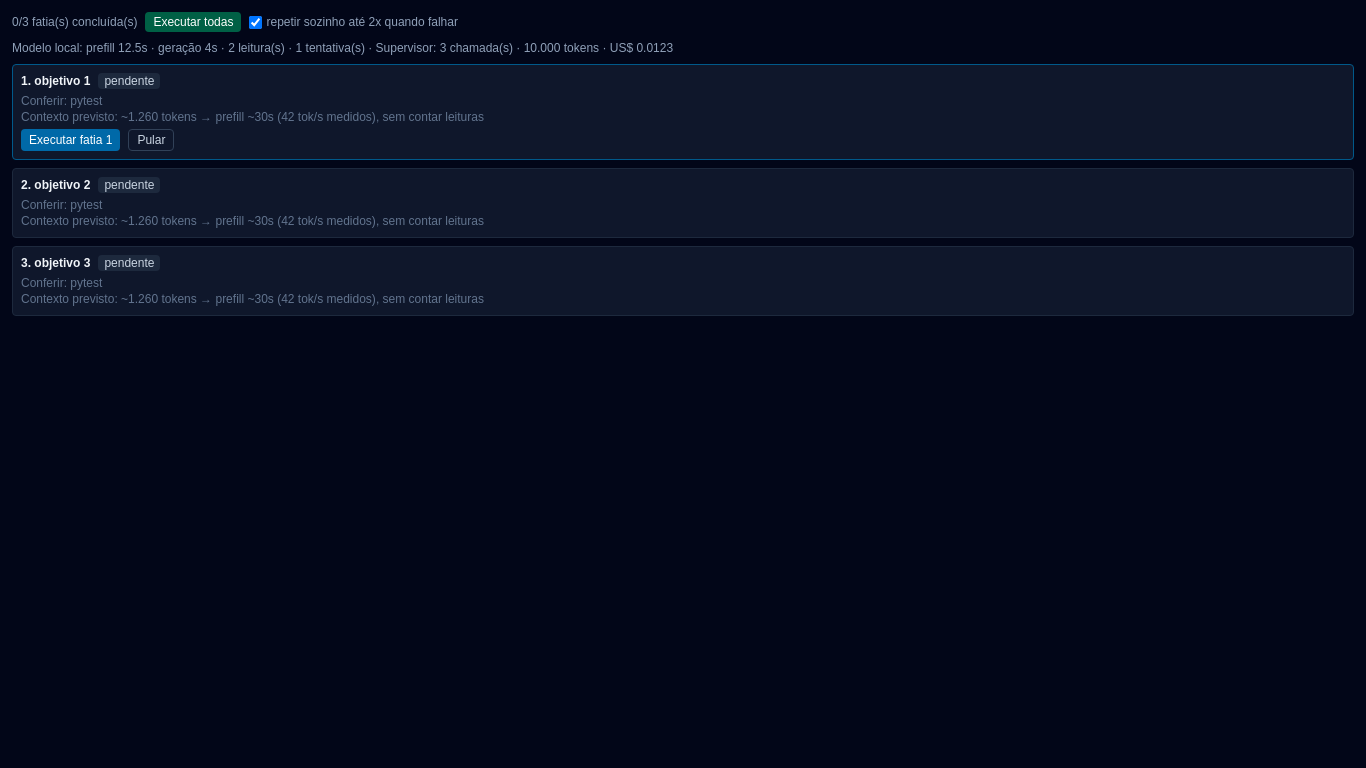
Test case: PainelExecucao › executar todas para na primeira falha, mostra o erro e repete com correção
This screenshot has width=1366, height=768.
Step 1. Click the button "Executar todas" → click(193, 22), box [145,12,241,32]
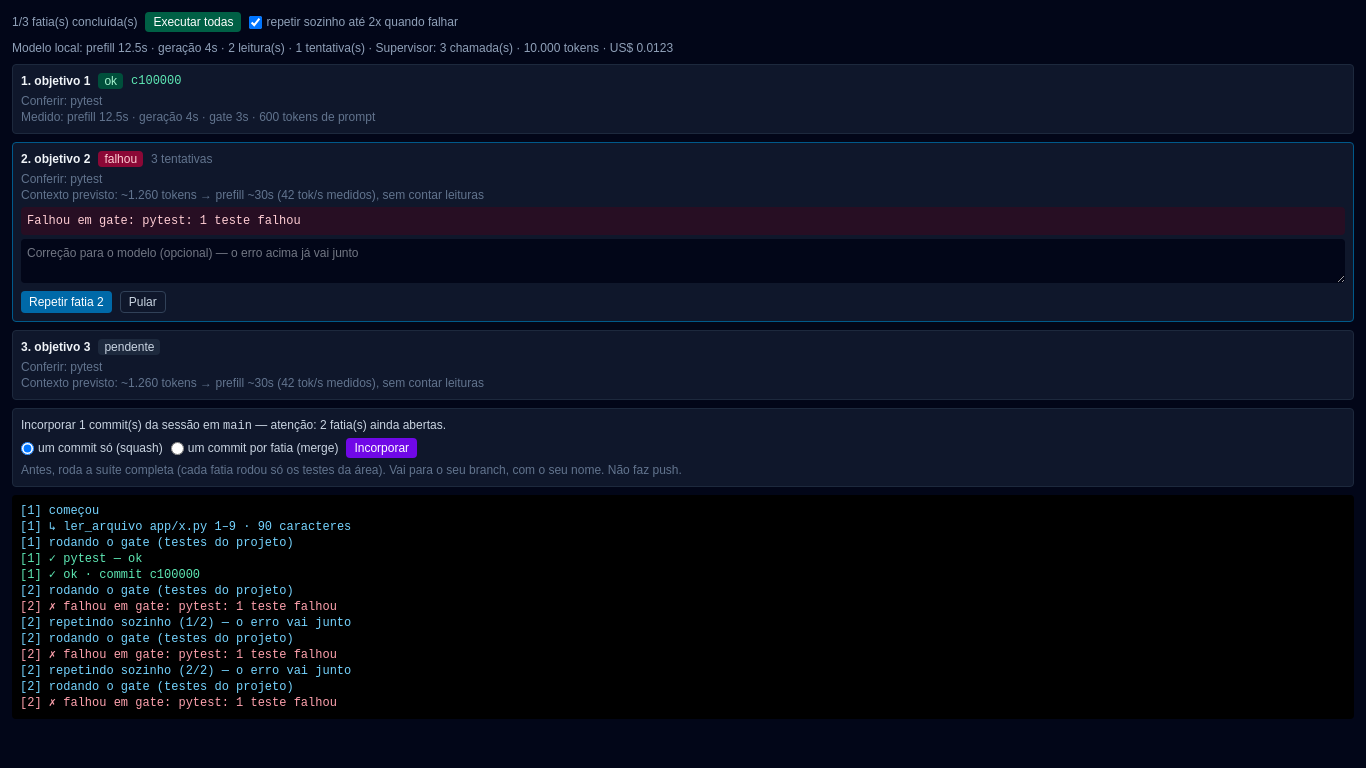
Result: the button "Repetir fatia 2" is enabled at [21,291,112,313]
Result: the text "Falhou em gate: pytest: 1 teste falhou" is shown at [21,207,1345,235]
Result: the element named "Fluxo da execução" shows "↳ ler_arquivo app/x.py 1–9 · 90 caracteres" at [20,520,351,534]
Step 2. Replace the text in the text box named "Correção da fatia 2" with "ajuste o teste" → (683, 261), box [21,239,1345,283]
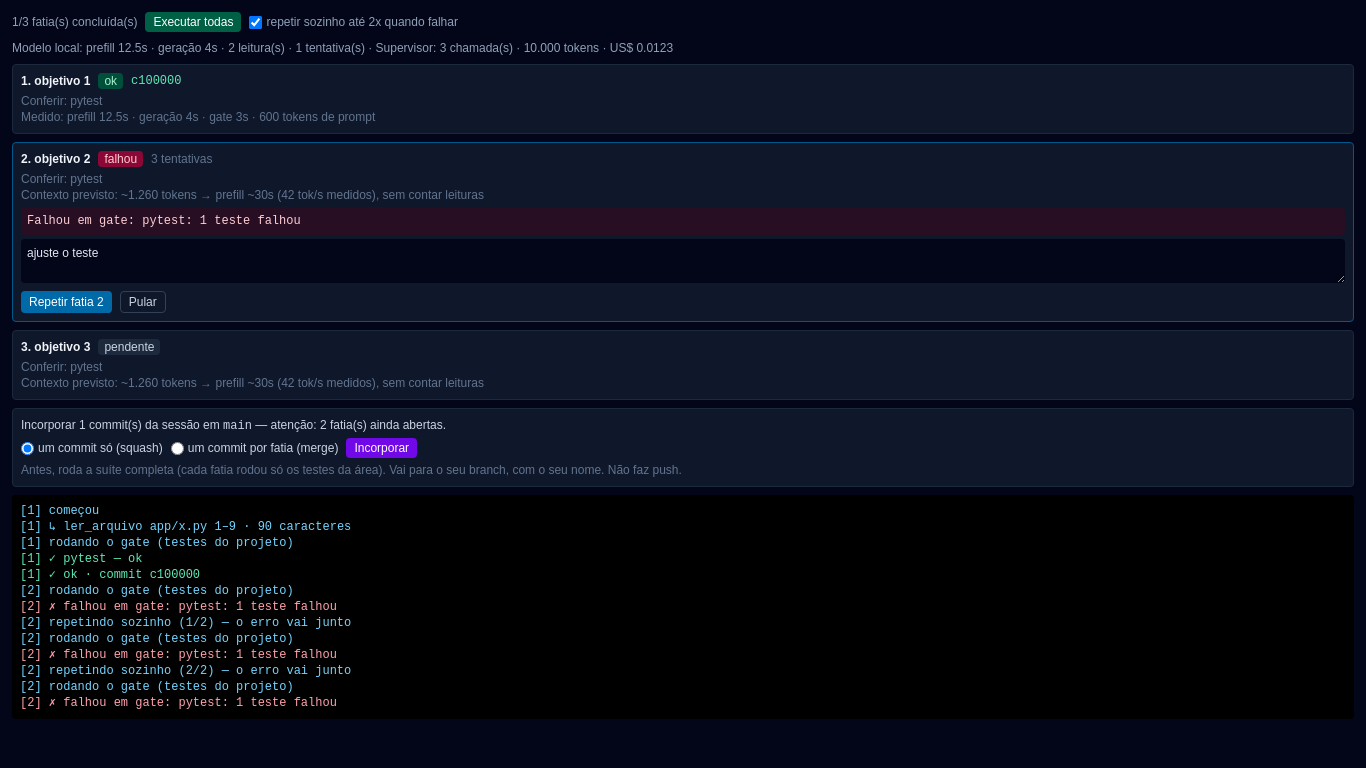
Step 3. Click the button "Repetir fatia 2" → click(66, 302), box [21,291,112,313]
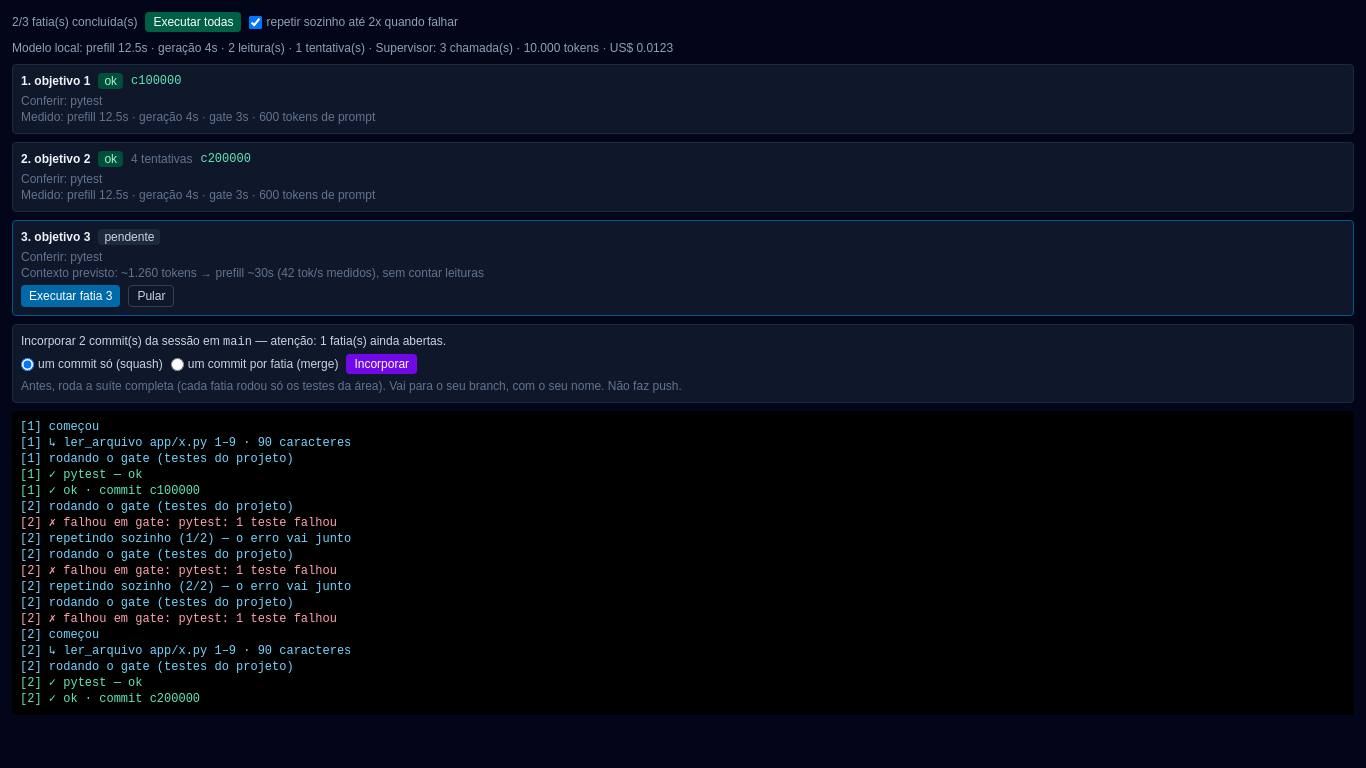
Result: the text "2/3 fatia(s) concluída(s)" is shown at [12,14,137,30]
